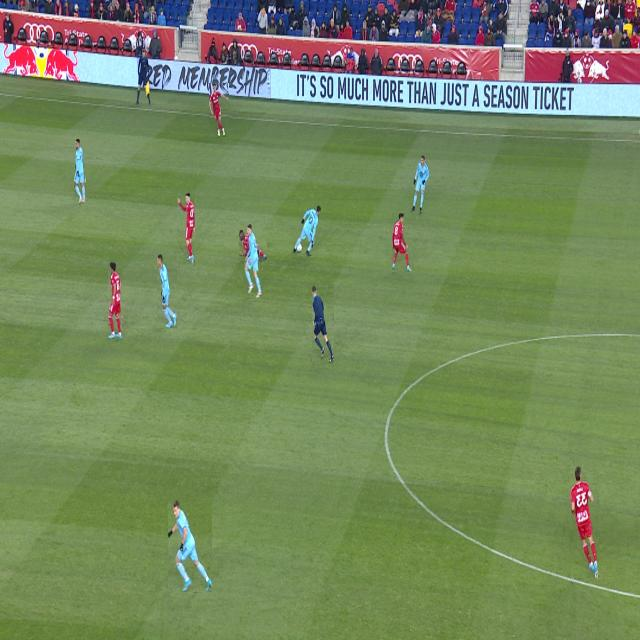football: (297, 242, 302, 252)
player: (168, 500, 212, 592), (570, 467, 599, 578), (158, 254, 177, 328), (293, 206, 320, 257), (245, 223, 262, 298), (178, 193, 195, 266), (392, 213, 412, 272), (209, 83, 229, 137), (411, 155, 429, 214), (109, 263, 122, 339), (239, 230, 267, 261), (75, 140, 85, 204)
referee: (312, 286, 334, 364)
